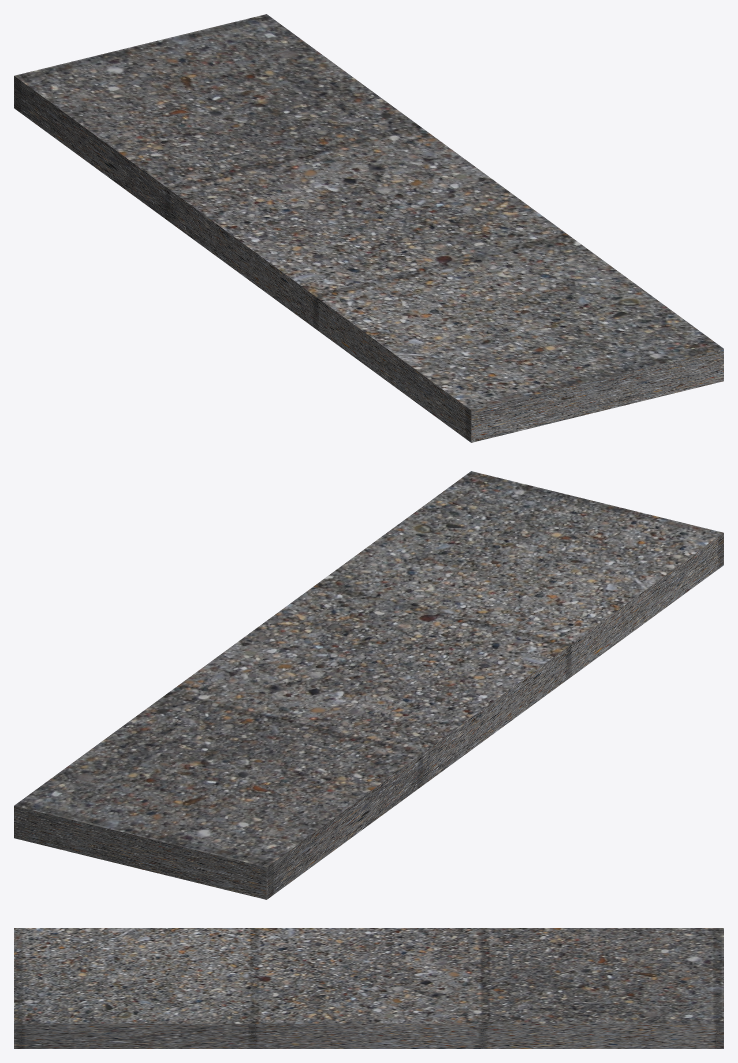
The model's file is Sidewalk.glb.
The picture shows the model from 3 angles, top to bottom: view 1: azimuth 30°, elevation 25°; view 2: azimuth 150°, elevation 25°; view 3: azimuth 270°, elevation 25°; orthographic projection. The views are drawn at different scales.
Visible parts, largest first — view 1: Cube; view 2: Cube; view 3: Cube.
Boxes of the visible parts, box(x1,y1,x2,y2) form: Cube: box(14, 14, 723, 442); Cube: box(14, 471, 723, 899); Cube: box(14, 928, 723, 1048).
Size of the model in its own units: 3 by 0.368 by 9.4.
1 material, 1 textured.
